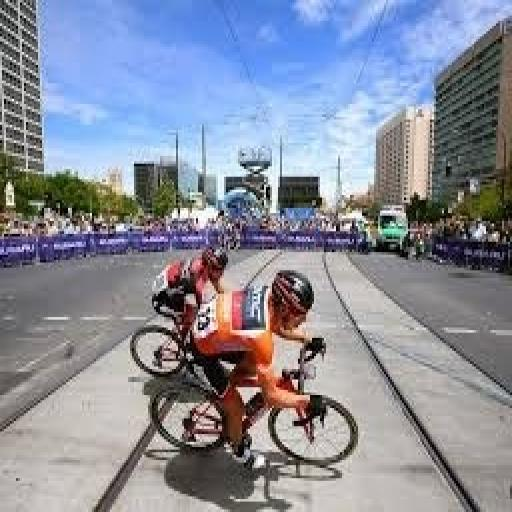cycling: (188, 265, 330, 473)
